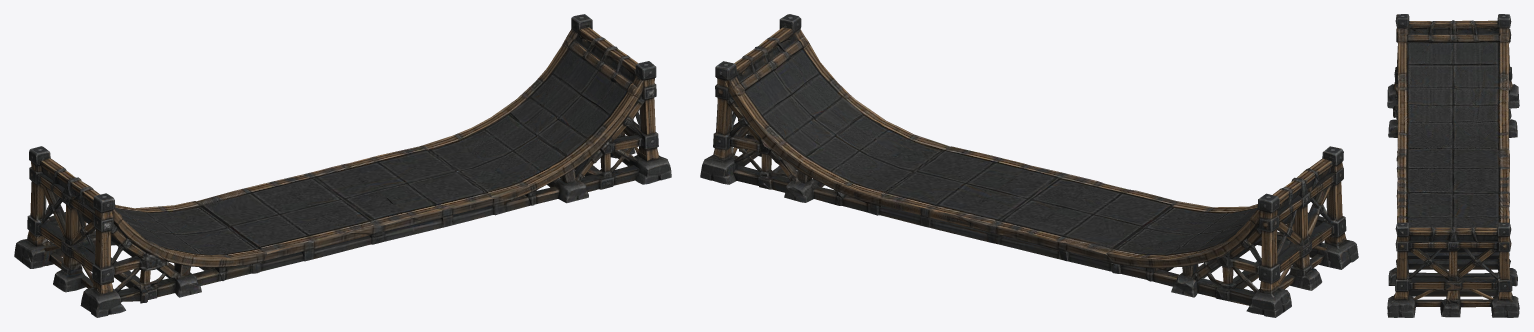
File: stunt-half-pipe.glb
3 views of the same model, side by side, from view 1: azimuth 30°, elevation 25°; view 2: azimuth 150°, elevation 25°; view 3: azimuth 270°, elevation 25° (orthographic). The views are drawn at different scales.
Bounding box in the file's own units: 1.9 × 0.3517 × 0.4812.
1 material, 1 textured.
